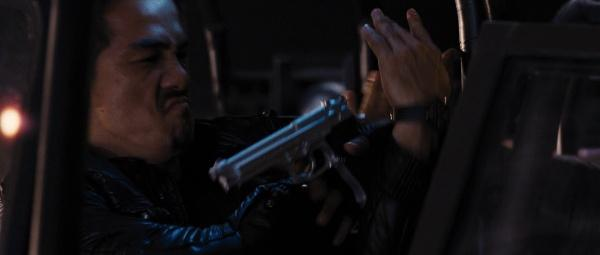Gun: (208, 95, 366, 210)
